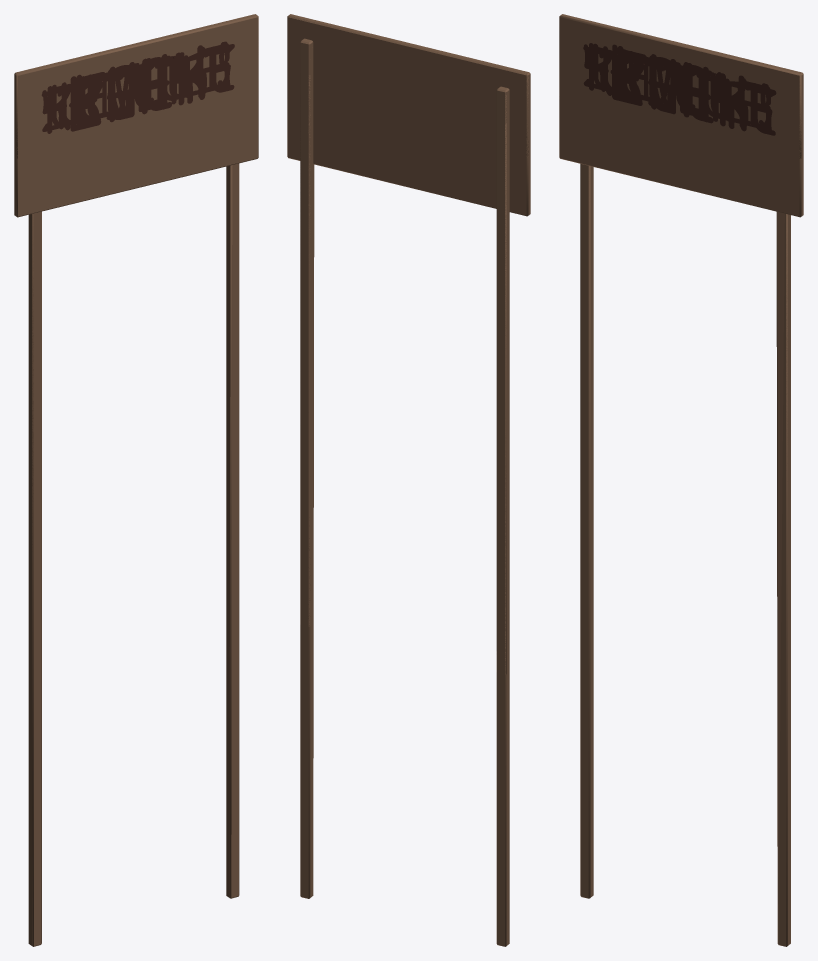
Rendered from LongSignsComplete.fbx.
3 renders of one model, left to right at view 1: azimuth 30°, elevation 25°; view 2: azimuth 150°, elevation 25°; view 3: azimuth 330°, elevation 25°, orthographic.
Parts seen in each view (by area): view 1: sign_level1_01, sign_play01, sign_level3_01, sign_resume01, sign_back01, sign_level2_01, sign_settings02; view 2: sign_back01, sign_level1_01, sign_play01, sign_level3_01, sign_resume01; view 3: sign_level1_01, sign_play01, sign_back01, sign_resume01, sign_level3_01, sign_level2_01, sign_settings02.
Part boxes in pixels (x1=…): sign_level1_01: x1=14, y1=22, x2=258, y2=946; sign_play01: x1=14, y1=14, x2=258, y2=670; sign_level3_01: x1=214, y1=41, x2=237, y2=897; sign_resume01: x1=16, y1=18, x2=250, y2=672; sign_back01: x1=16, y1=36, x2=205, y2=131; sign_level2_01: x1=52, y1=42, x2=225, y2=127; sign_settings02: x1=29, y1=51, x2=230, y2=671; sign_back01: x1=287, y1=15, x2=528, y2=674; sign_level1_01: x1=287, y1=99, x2=530, y2=946; sign_play01: x1=288, y1=14, x2=530, y2=674; sign_level3_01: x1=310, y1=47, x2=314, y2=897; sign_resume01: x1=300, y1=20, x2=528, y2=673; sign_level1_01: x1=559, y1=20, x2=803, y2=946; sign_play01: x1=559, y1=14, x2=803, y2=672; sign_back01: x1=563, y1=14, x2=803, y2=623; sign_resume01: x1=559, y1=14, x2=803, y2=623; sign_level3_01: x1=755, y1=84, x2=784, y2=943; sign_level2_01: x1=593, y1=43, x2=767, y2=129; sign_settings02: x1=583, y1=44, x2=790, y2=571.
Size of the model in its own units: 92.94 by 322 by 4.88.
